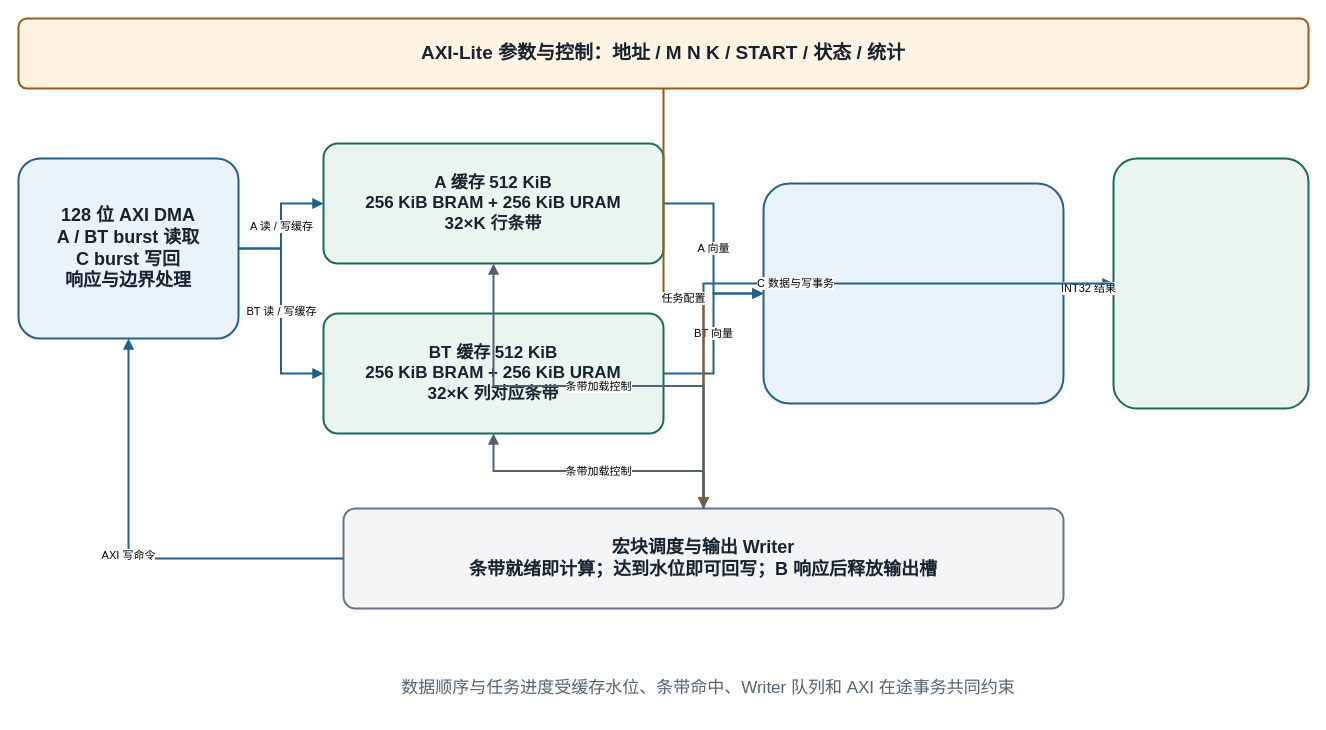
This 1326x730 diagram has some shape labels left out. The shapes that lost their labels are listed below. From the top down, each one's centre as x and y in pixels, then its label:
At (x=913, y=293): "32×32 脉动阵列 1024 个 PE INT8 乘法 / INT32 累加 输入缓存统一 3 拍读取".
At (x=1210, y=283): "C 缓存 256 KiB URAM 64 个输出槽 保存绝对目标坐标".
